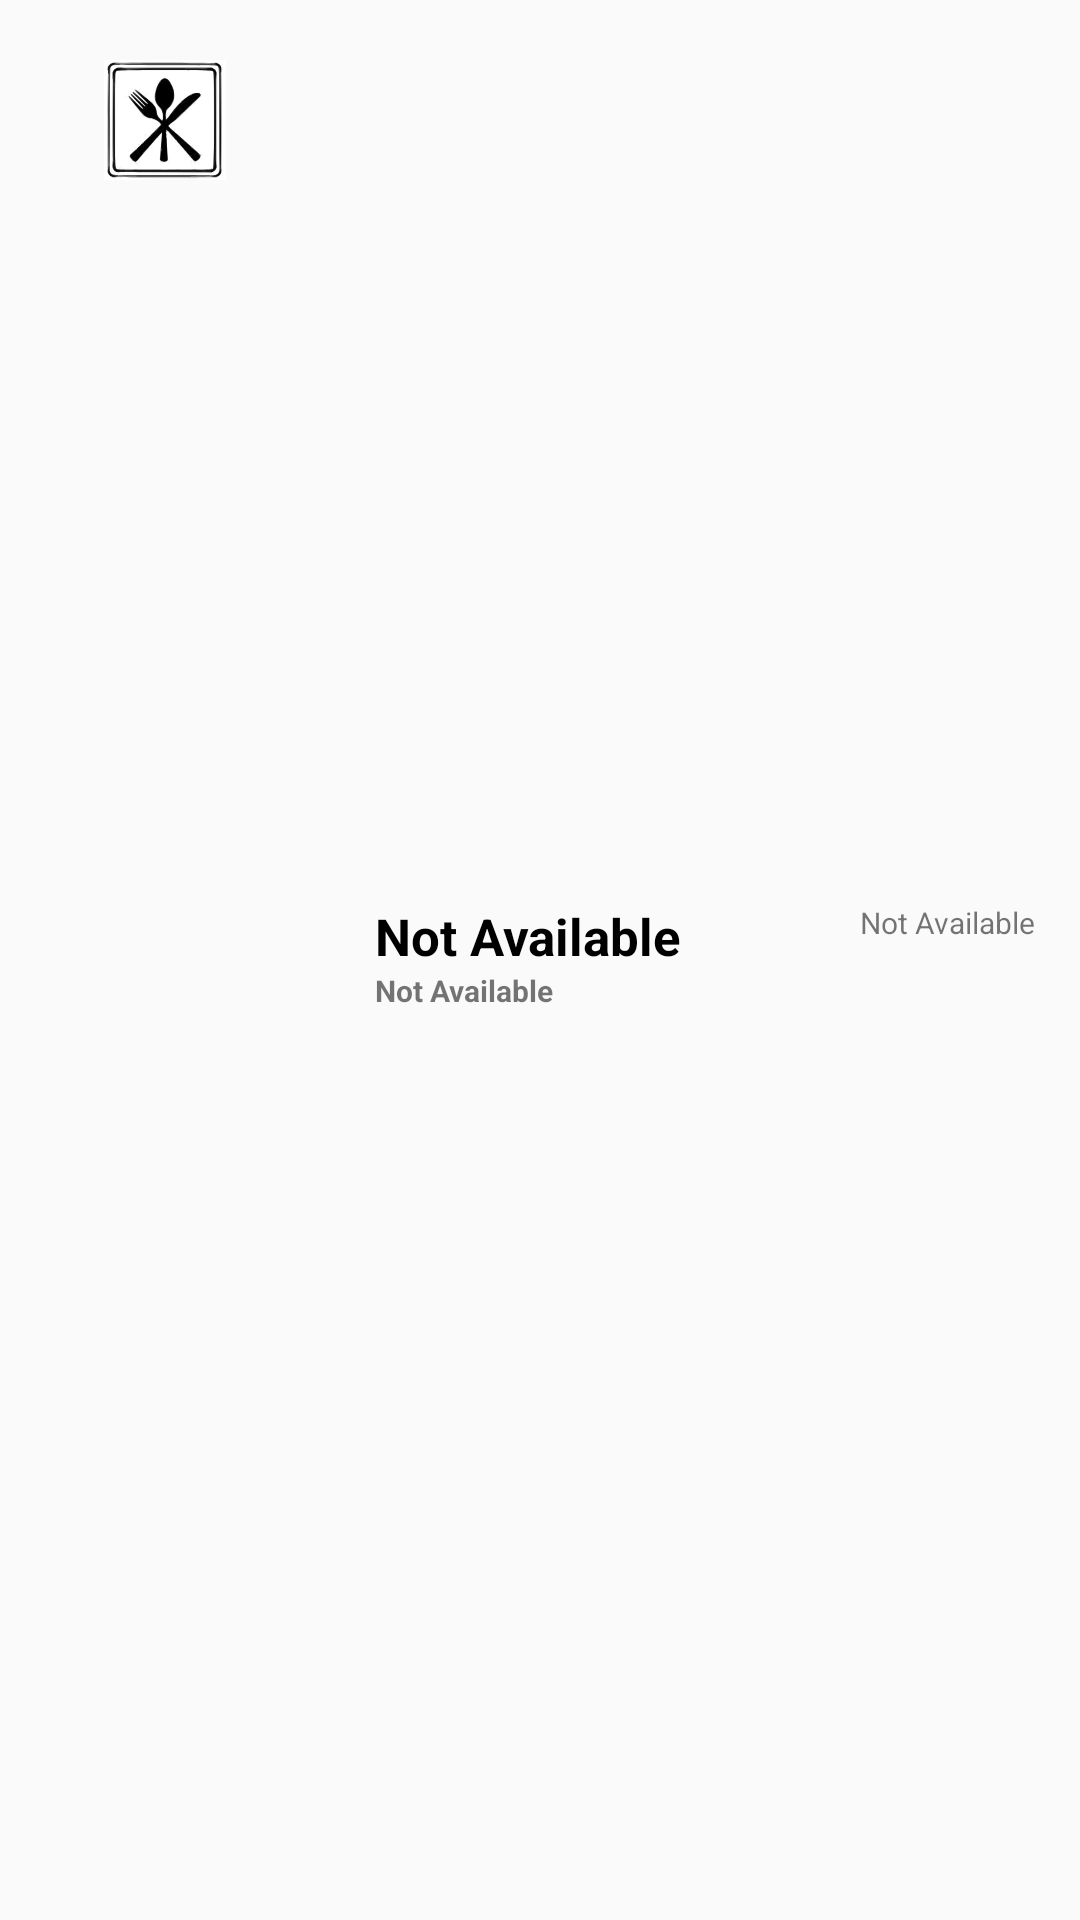

Locate icon controls on the screen. Image size 1080x1920, boxes as (x1, y1, x2, y2).
restaurant: (107, 62, 222, 178)
